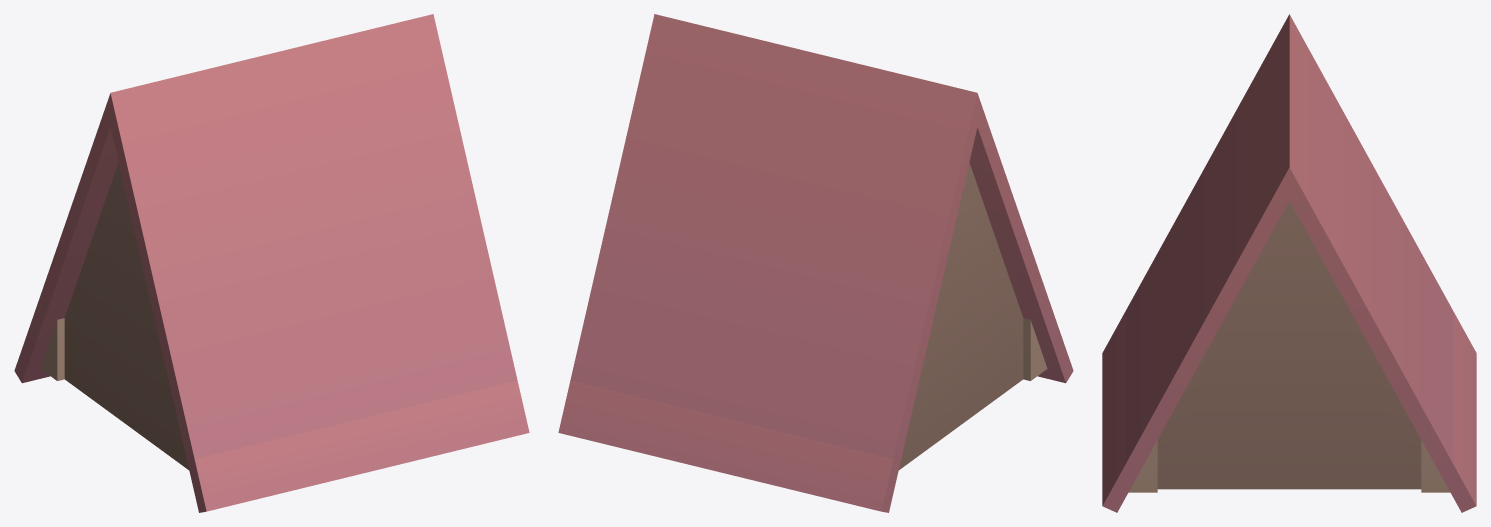
The model's file is roof-high-gable.glb.
3 views of the same model, side by side, from view 1: azimuth 30°, elevation 25°; view 2: azimuth 150°, elevation 25°; view 3: azimuth 270°, elevation 25° (orthographic). The views are drawn at different scales.
Visible parts, largest first — view 1: roof-high-gable; view 2: roof-high-gable; view 3: roof-high-gable.
Boxes of the visible parts, x1,y1,x2,y2 form: roof-high-gable: (14,14,529,512); roof-high-gable: (558,14,1073,512); roof-high-gable: (1102,14,1476,512).
Bounding box in the file's own units: 1.1 × 1.16 × 1.13.
